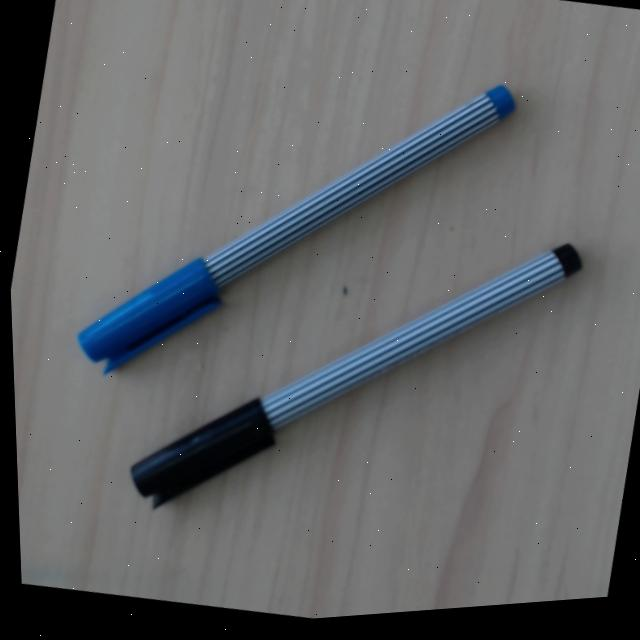Pulpen-Garis-Biru: (73, 74, 527, 377)
Pulpen-Garis-Hitam: (126, 233, 592, 510)
